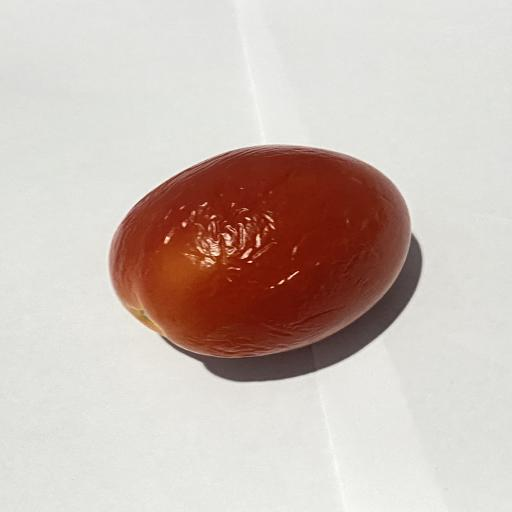spoiled: (109, 145, 410, 357)
